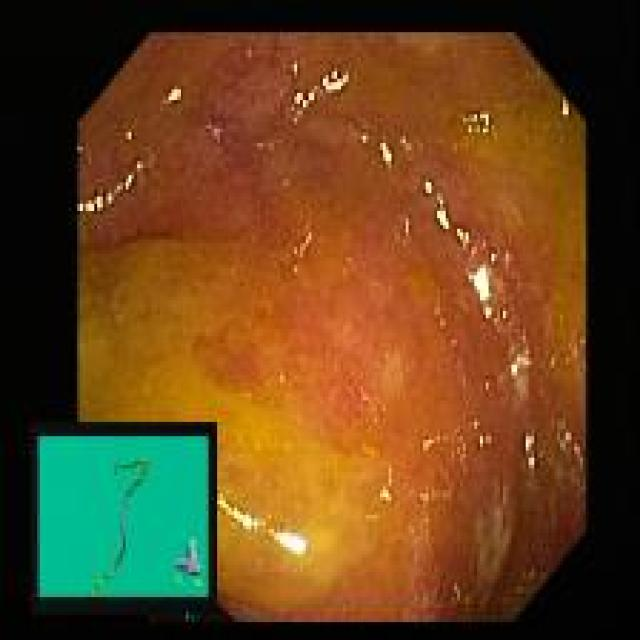ulcerative-colitis: (76, 31, 586, 622)
